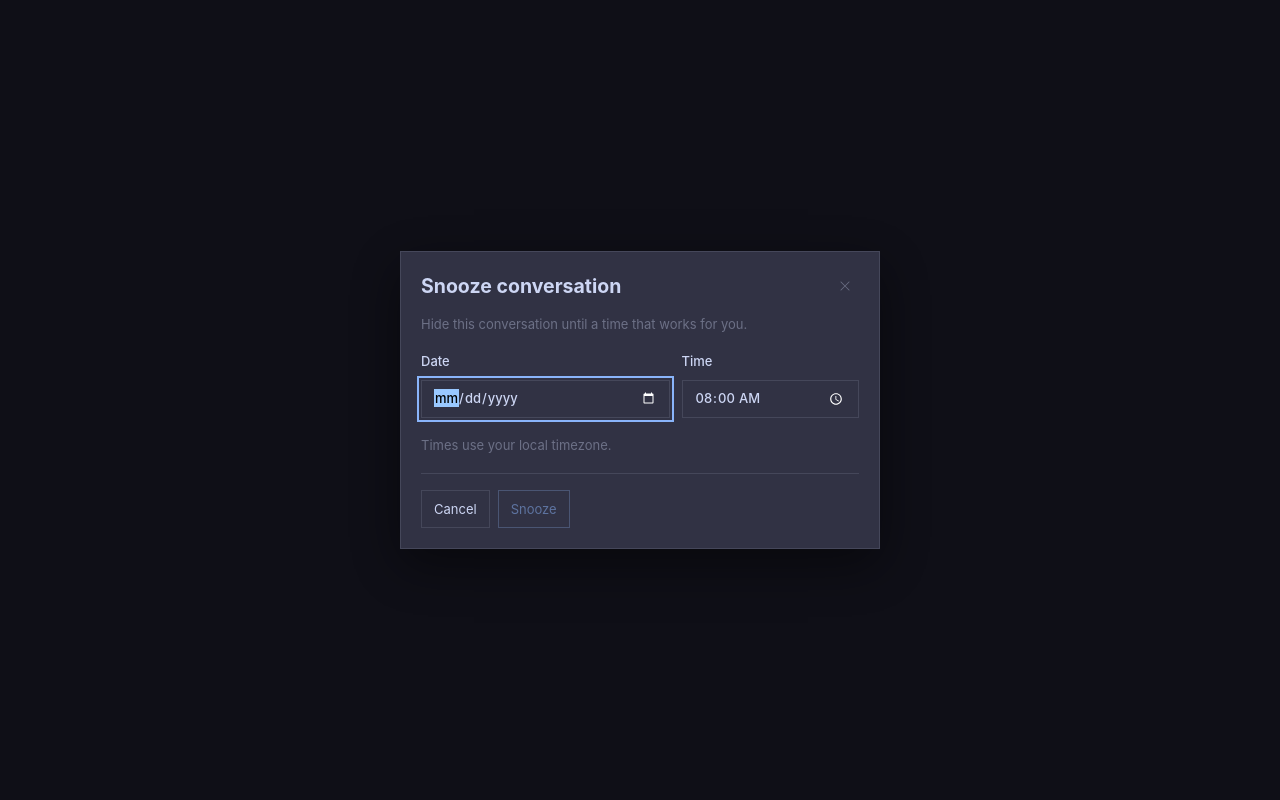
Test: blocks a time that expired while the dialog was open
Type "2099-01-02" into the date field named "Wake-up date" at (545, 399), box [421,380,670,418]
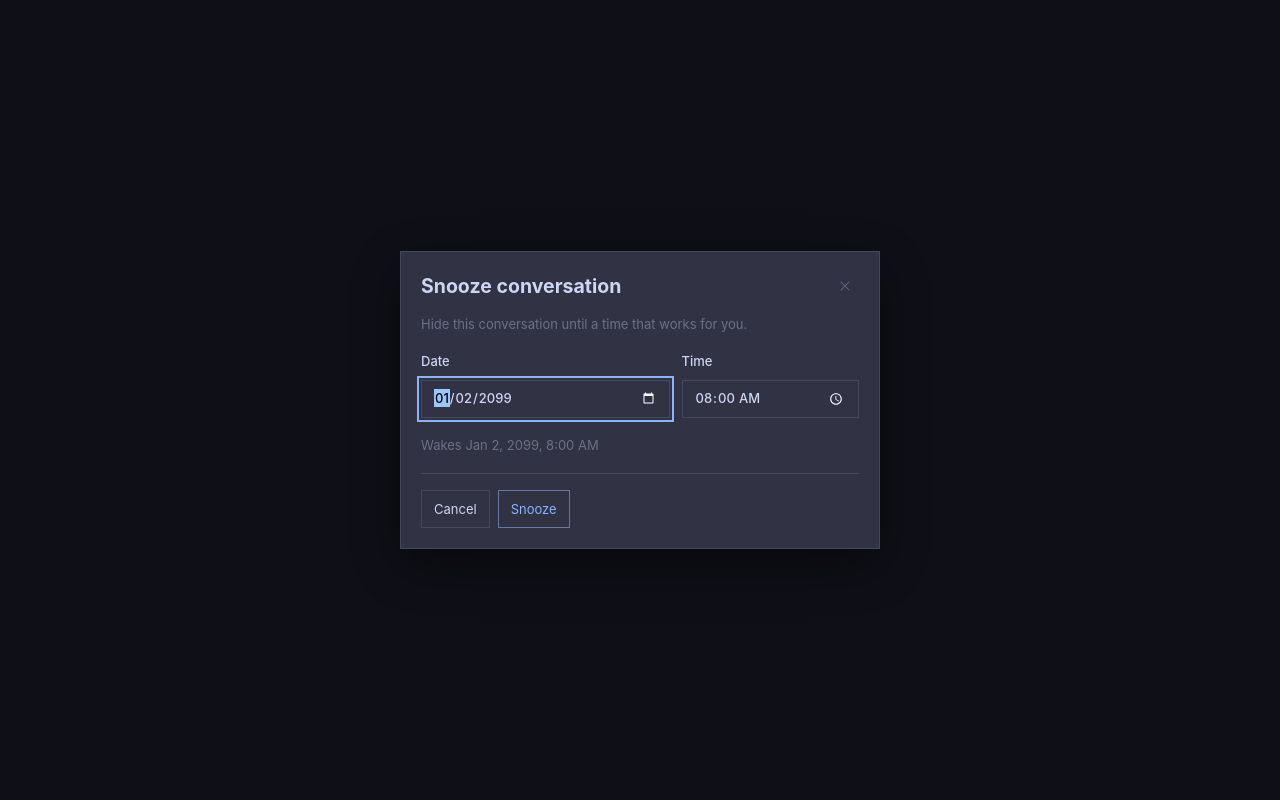
Now the button "Snooze" is enabled, box [498,490,570,528]
Submit the form named "Snooze", box [421,315,859,528]
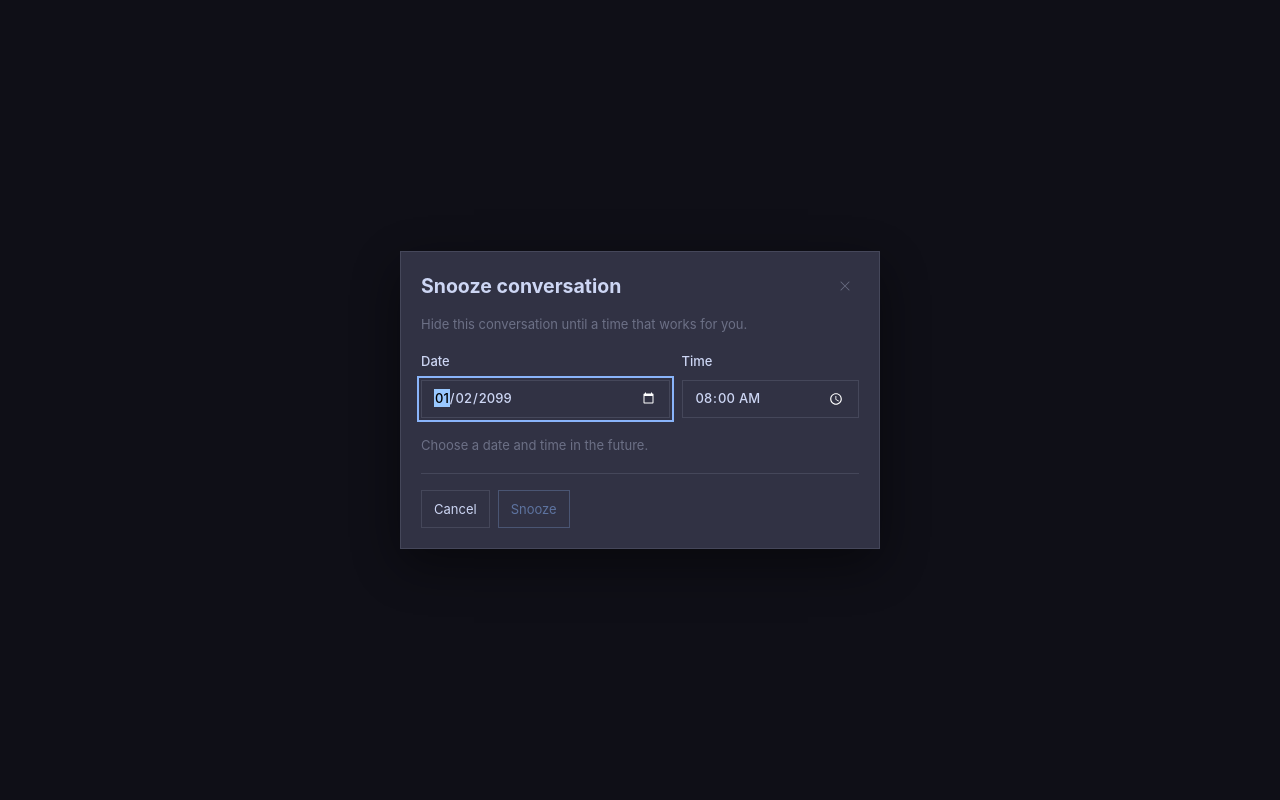
Now the button "Snooze" is disabled, box [498,490,570,528]
Now the message shows "in the future", box [421,437,648,453]
